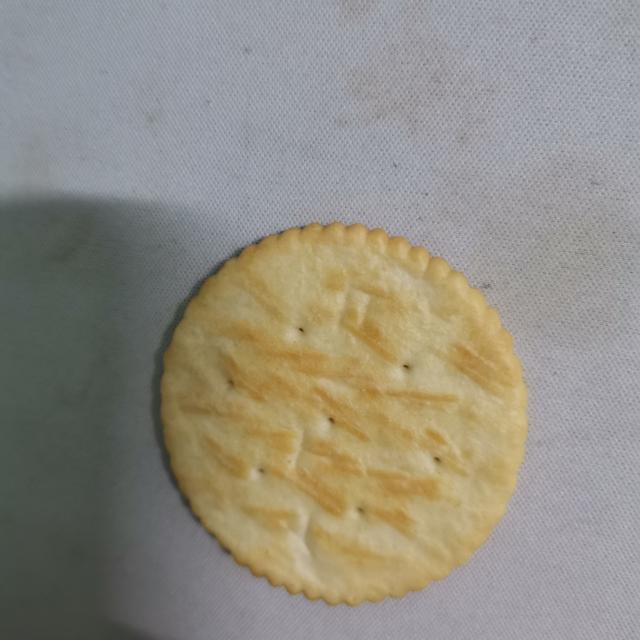Intact: (143, 212, 539, 611)
